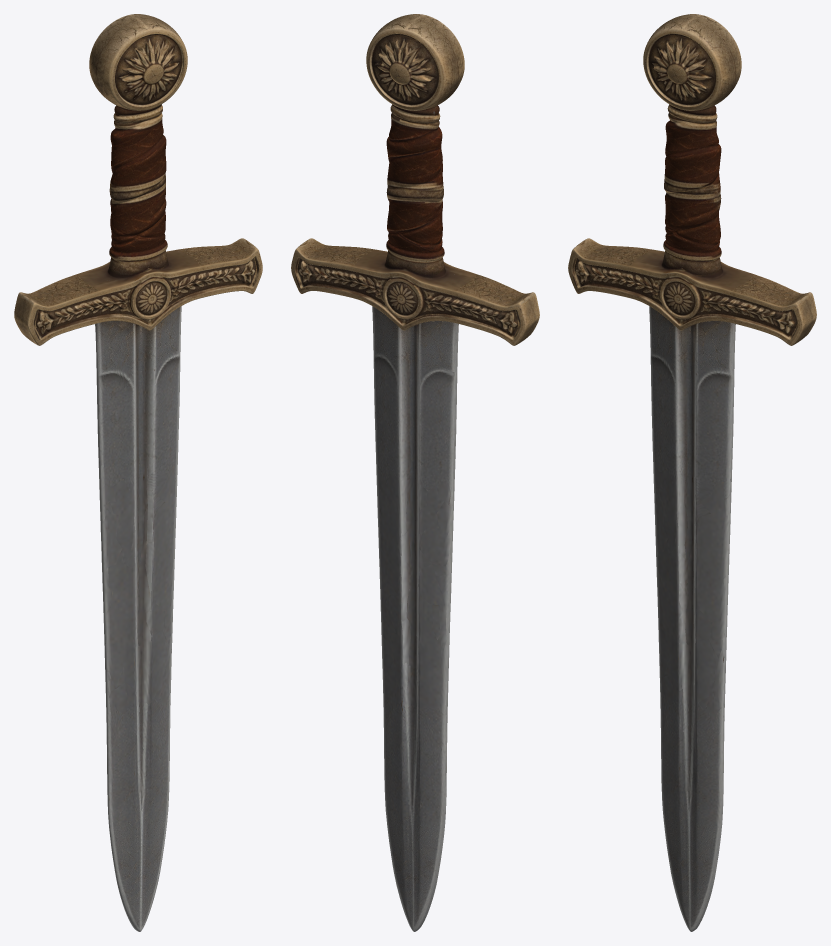
Rendered from Meshy_AI_Sunburst_Relic_Sword_0926234014_texture.fbx.
3 views of the same model, side by side, from view 1: azimuth 30°, elevation 25°; view 2: azimuth 150°, elevation 25°; view 3: azimuth 330°, elevation 25° (orthographic).
Parts seen in each view (by area): view 1: Mesh_0; view 2: Mesh_0; view 3: Mesh_0.
Part boxes in pixels (<box>): Mesh_0: <box>14,14,262,931</box>; Mesh_0: <box>291,14,539,931</box>; Mesh_0: <box>568,14,816,931</box>.
Size of the model in its own units: 51.87 by 192 by 12.55.
Materials: 1 (1 with a texture image).
